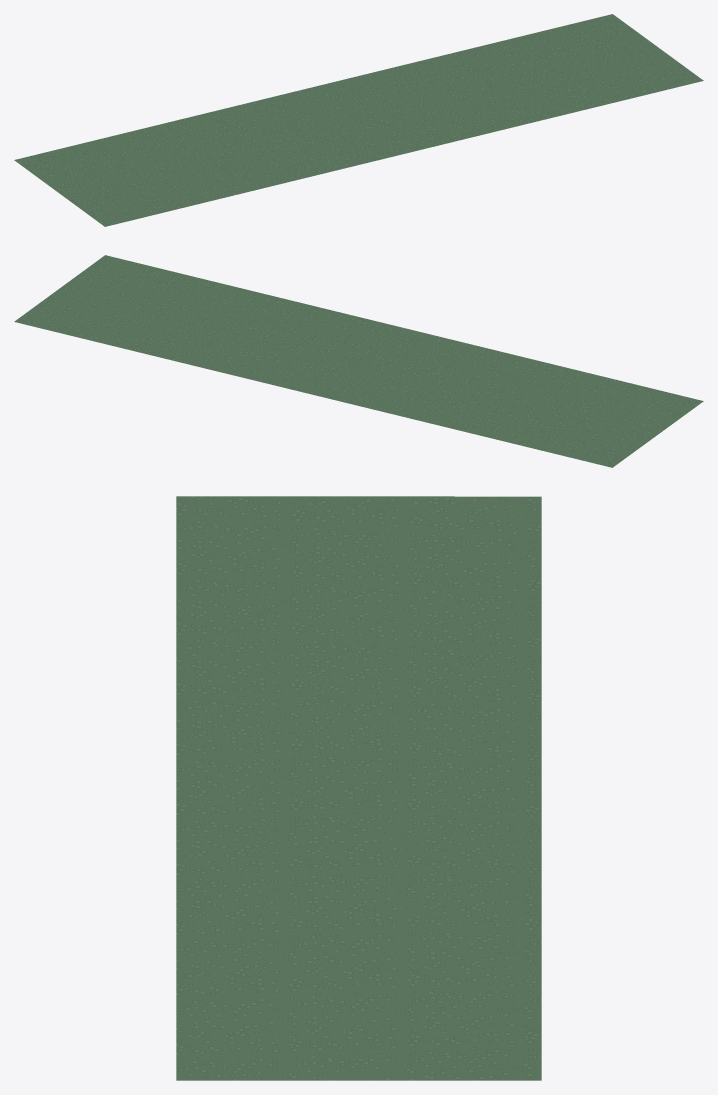
Rendered from kd_stage_136599_19_34.glb.
The picture shows the model from 3 angles, top to bottom: view 1: azimuth 30°, elevation 25°; view 2: azimuth 150°, elevation 25°; view 3: azimuth 270°, elevation 25°; orthographic projection. The views are drawn at different scales.
Parts seen in each view (by area): view 1: kd_stage_136599_19_34; view 2: kd_stage_136599_19_34; view 3: kd_stage_136599_19_34.
Boxes of the visible parts, box(x1,y1,x2,y2) form: kd_stage_136599_19_34: box(14, 14, 703, 226); kd_stage_136599_19_34: box(14, 255, 703, 467); kd_stage_136599_19_34: box(176, 496, 541, 1080).
Bounding box in the file's own units: 11.76 × 1.22e-06 × 3.1.
1 material, 1 textured.
